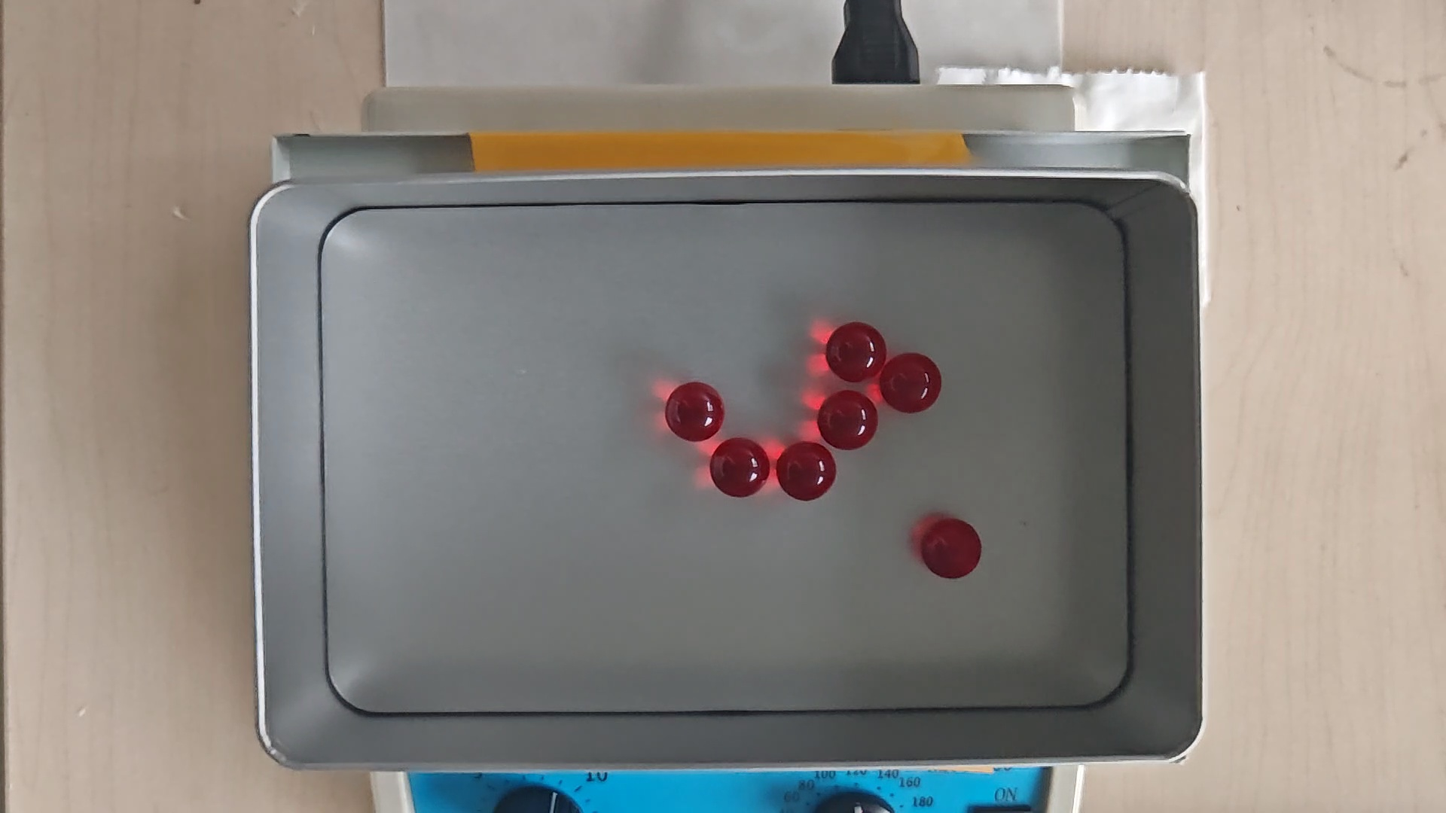ball: (826, 319, 886, 384), (883, 353, 941, 416), (819, 390, 878, 450), (777, 443, 835, 503), (924, 518, 980, 580), (712, 437, 767, 497), (667, 382, 721, 442)
container: (318, 199, 1133, 716)
